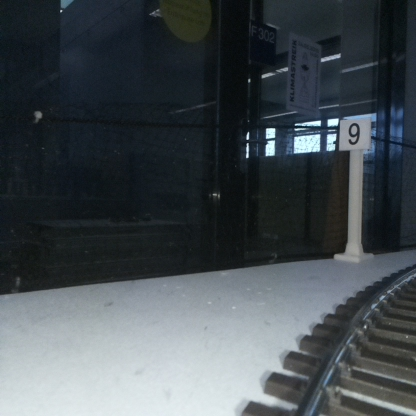white-info-9: (340, 116, 370, 259)
